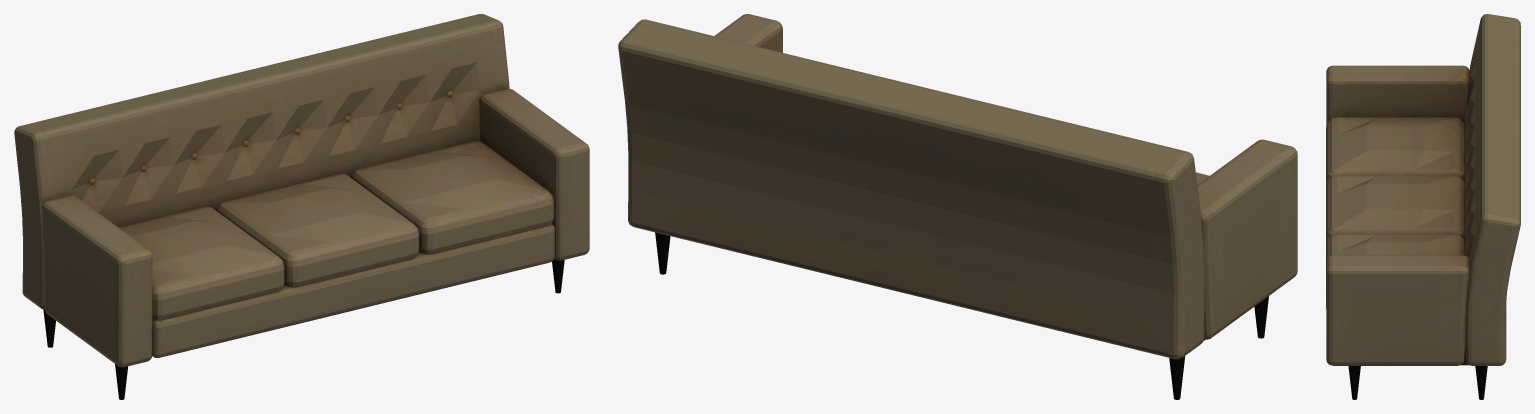
The model's file is lamp.obj.
3 renders of one model, left to right at view 1: azimuth 30°, elevation 25°; view 2: azimuth 150°, elevation 25°; view 3: azimuth 270°, elevation 25°, orthographic. The views are drawn at different scales.
Parts seen in each view (by area): view 1: Couch_Couch_Couch; view 2: Couch_Couch_Couch; view 3: Couch_Couch_Couch.
Part boxes in pixels (x1,y1,x2,y2): Couch_Couch_Couch: (14, 14, 589, 399); Couch_Couch_Couch: (618, 14, 1297, 399); Couch_Couch_Couch: (1326, 14, 1520, 399).
Bounding box in the file's own units: 4.91 × 2.12 × 1.97.
1 material, 1 textured.
